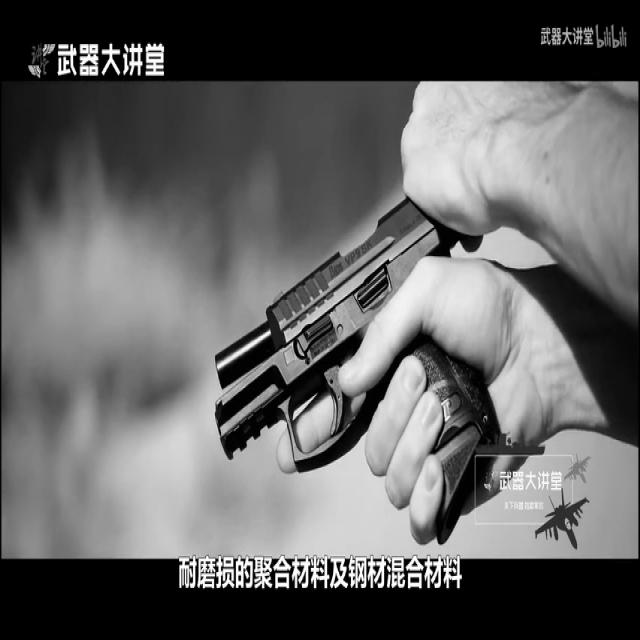Hand-Gun: (186, 113, 544, 577)
